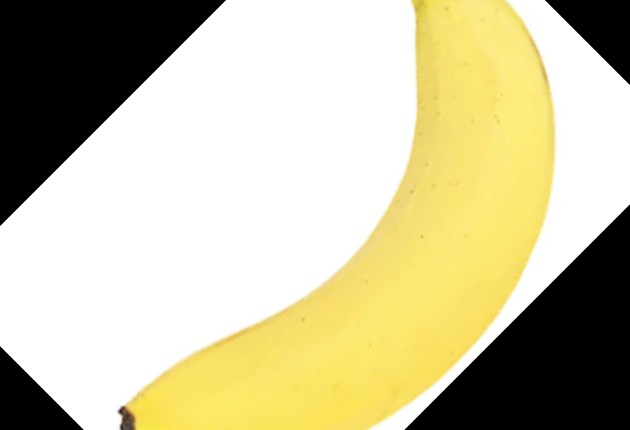fresh_banana: (118, 1, 555, 430)
